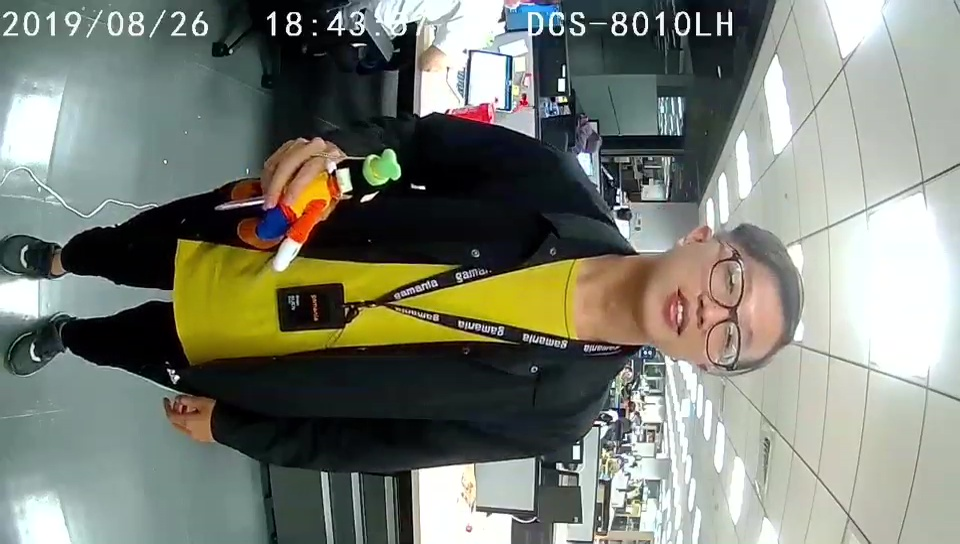goofy: (230, 149, 400, 275)
